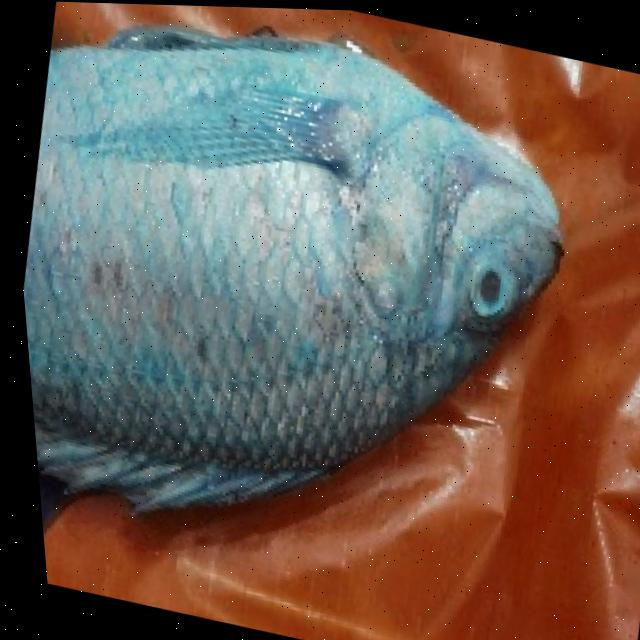Non-Fresh: (0, 0, 612, 496), (431, 244, 524, 331)
